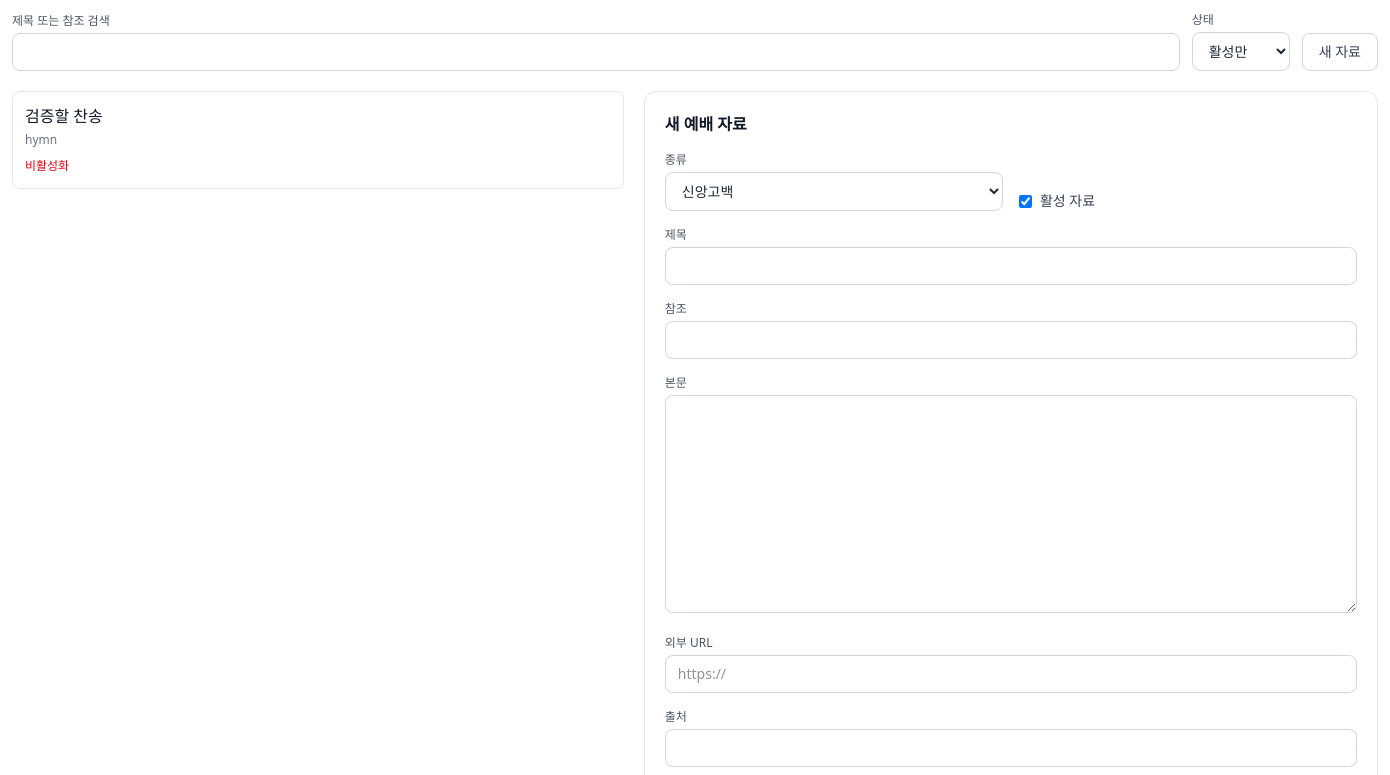
WorshipResourceForm › does not deactivate a resource that fails full input validation
Click the button "비활성화" at coordinates (47, 166), box [25,158,69,174]
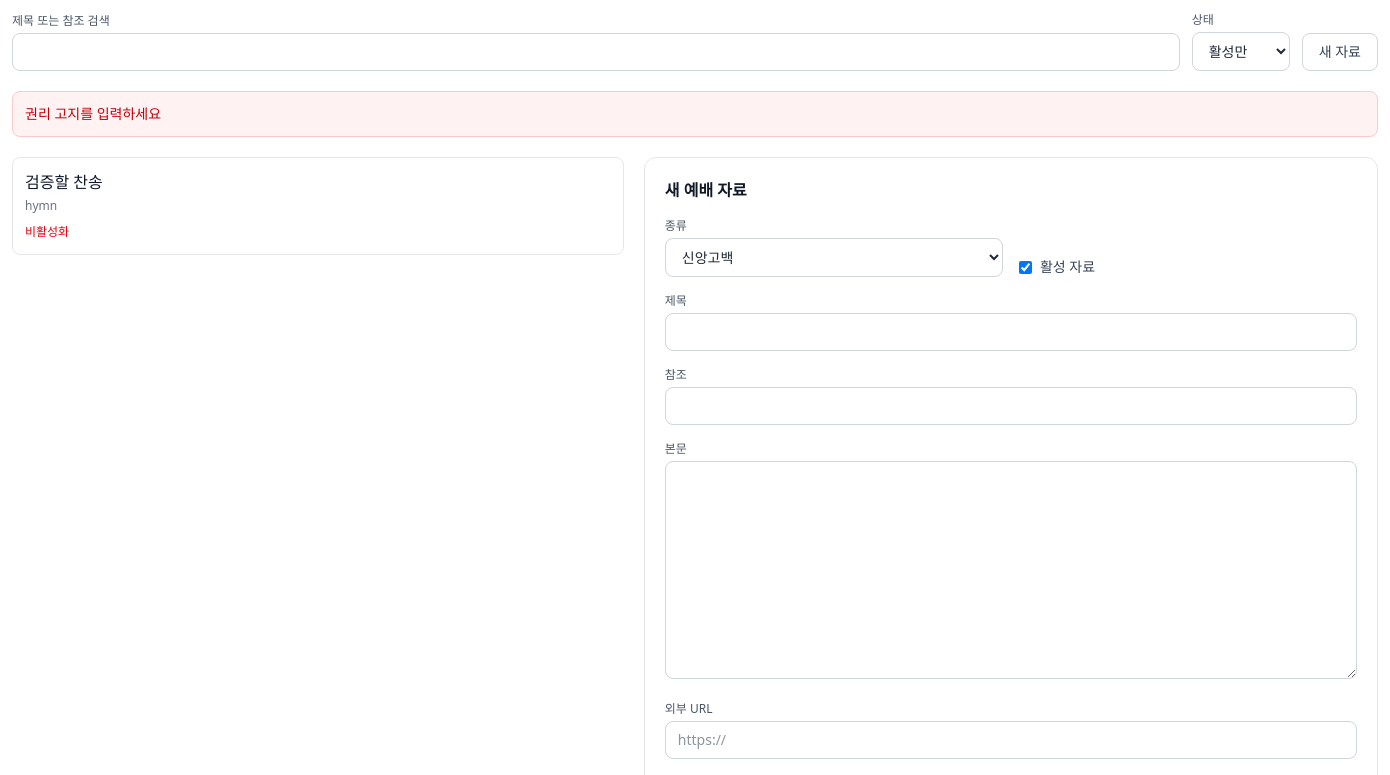
Check: the message reads "권리 고지를 입력하세요", box [25,104,161,123]
